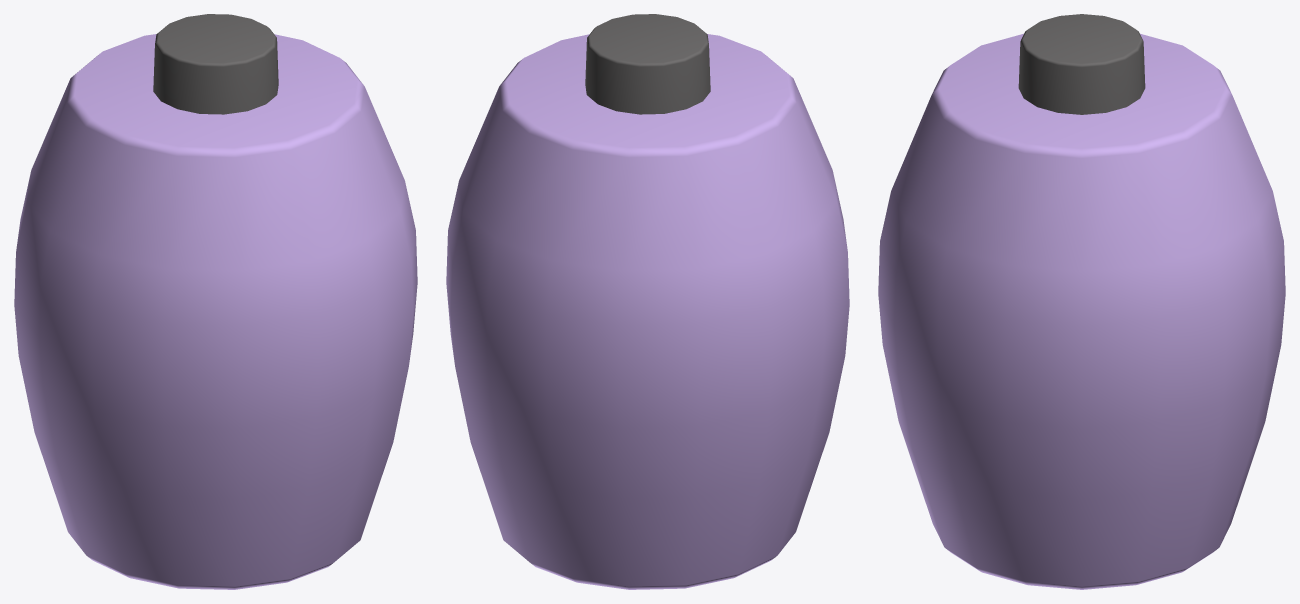
The model's file is Bottle_9.glb.
The picture shows the model from 3 angles, left to right: view 1: azimuth 30°, elevation 25°; view 2: azimuth 150°, elevation 25°; view 3: azimuth 270°, elevation 25°; orthographic projection.
Parts seen in each view (by area): view 1: Bottle_9; view 2: Bottle_9; view 3: Bottle_9.
Part boxes in pixels (bbox=[...]): Bottle_9: bbox=[14, 14, 417, 589]; Bottle_9: bbox=[446, 14, 849, 589]; Bottle_9: bbox=[878, 14, 1285, 589].
Size of the model in its own units: 0.1602 by 0.2131 by 0.1602.
Materials: 1 (1 with a texture image).
